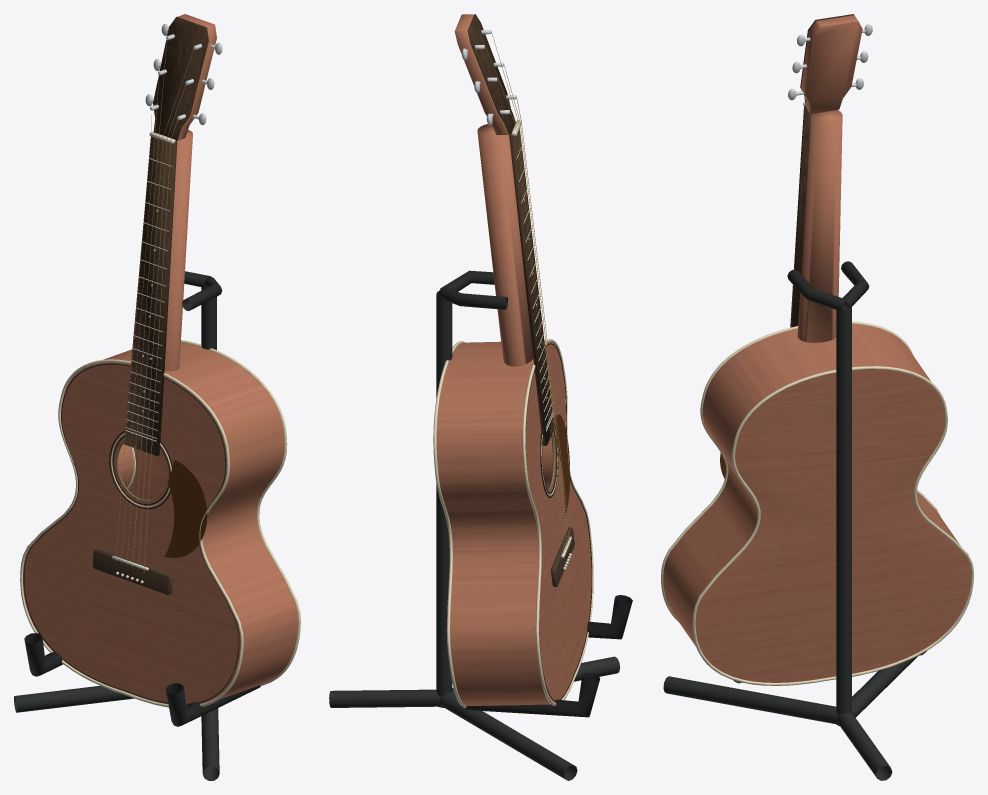
Rendered from guitar.glb.
3 renders of one model, left to right at view 1: azimuth 30°, elevation 25°; view 2: azimuth 150°, elevation 25°; view 3: azimuth 270°, elevation 25°, orthographic. The views are drawn at different scales.
Visible parts, largest first — view 1: Interactive_Guitar__Guitar bookmatched satin top, Interactive_Guitar__Guitar sapele back and sides, Interactive_Guitar__Guitar dark ebony, Interactive_Guitar__Guitar ivoroid binding, Interactive_Guitar__Guitar stand powder coat, Interactive_Guitar__Guitar stand rubber, Interactive_Guitar__Guitar bronze strings, Interactive_Guitar__Guitar tortoiseshell pickguard, Interactive_Guitar__Guitar dark purfling, Interactive_Guitar__Guitar nickel hardware; view 2: Interactive_Guitar__Guitar sapele back and sides, Interactive_Guitar__Guitar bookmatched satin top, Interactive_Guitar__Guitar stand powder coat, Interactive_Guitar__Guitar dark ebony, Interactive_Guitar__Guitar stand rubber, Interactive_Guitar__Guitar ivoroid binding, Interactive_Guitar__Guitar bronze strings, Interactive_Guitar__Guitar dark purfling, Interactive_Guitar__Guitar nickel hardware, Interactive_Guitar__Guitar tortoiseshell pickguard; view 3: Interactive_Guitar__Guitar sapele back and sides, Interactive_Guitar__Guitar stand powder coat, Interactive_Guitar__Guitar ivoroid binding, Interactive_Guitar__Guitar dark ebony, Interactive_Guitar__Guitar stand rubber, Interactive_Guitar__Guitar nickel hardware.
Boxes of the visible parts, box(x1,y1,x2,y2) form: Interactive_Guitar__Guitar bookmatched satin top: box(23, 362, 240, 705); Interactive_Guitar__Guitar sapele back and sides: box(103, 14, 298, 698); Interactive_Guitar__Guitar dark ebony: box(92, 17, 208, 594); Interactive_Guitar__Guitar ivoroid binding: box(20, 340, 300, 707); Interactive_Guitar__Guitar stand powder coat: box(14, 285, 219, 780); Interactive_Guitar__Guitar stand rubber: box(24, 271, 260, 726); Interactive_Guitar__Guitar bronze strings: box(115, 40, 194, 572); Interactive_Guitar__Guitar tortoiseshell pickguard: box(164, 460, 207, 557); Interactive_Guitar__Guitar dark purfling: box(23, 363, 239, 704); Interactive_Guitar__Guitar nickel hardware: box(125, 23, 222, 441); Interactive_Guitar__Guitar sapele back and sides: box(436, 14, 555, 705); Interactive_Guitar__Guitar bookmatched satin top: box(525, 342, 591, 702); Interactive_Guitar__Guitar stand powder coat: box(329, 291, 619, 780); Interactive_Guitar__Guitar dark ebony: box(467, 14, 574, 586); Interactive_Guitar__Guitar stand rubber: box(438, 270, 632, 717); Interactive_Guitar__Guitar ivoroid binding: box(433, 339, 593, 707); Interactive_Guitar__Guitar bronze strings: box(485, 32, 571, 558); Interactive_Guitar__Guitar dark purfling: box(525, 343, 592, 701); Interactive_Guitar__Guitar nickel hardware: box(461, 30, 553, 431); Interactive_Guitar__Guitar tortoiseshell pickguard: box(555, 414, 569, 515); Interactive_Guitar__Guitar sapele back and sides: box(663, 15, 970, 682); Interactive_Guitar__Guitar stand powder coat: box(663, 302, 918, 780); Interactive_Guitar__Guitar ivoroid binding: box(661, 321, 973, 685); Interactive_Guitar__Guitar dark ebony: box(790, 14, 853, 327); Interactive_Guitar__Guitar stand rubber: box(733, 261, 926, 683); Interactive_Guitar__Guitar nickel hardware: box(788, 24, 872, 100).
Bounding box in the file's own units: 0.4278 × 1.06 × 0.4275.
13 materials, 3 textured.
